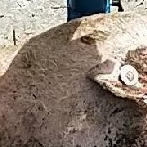text: (114, 58, 146, 90)
